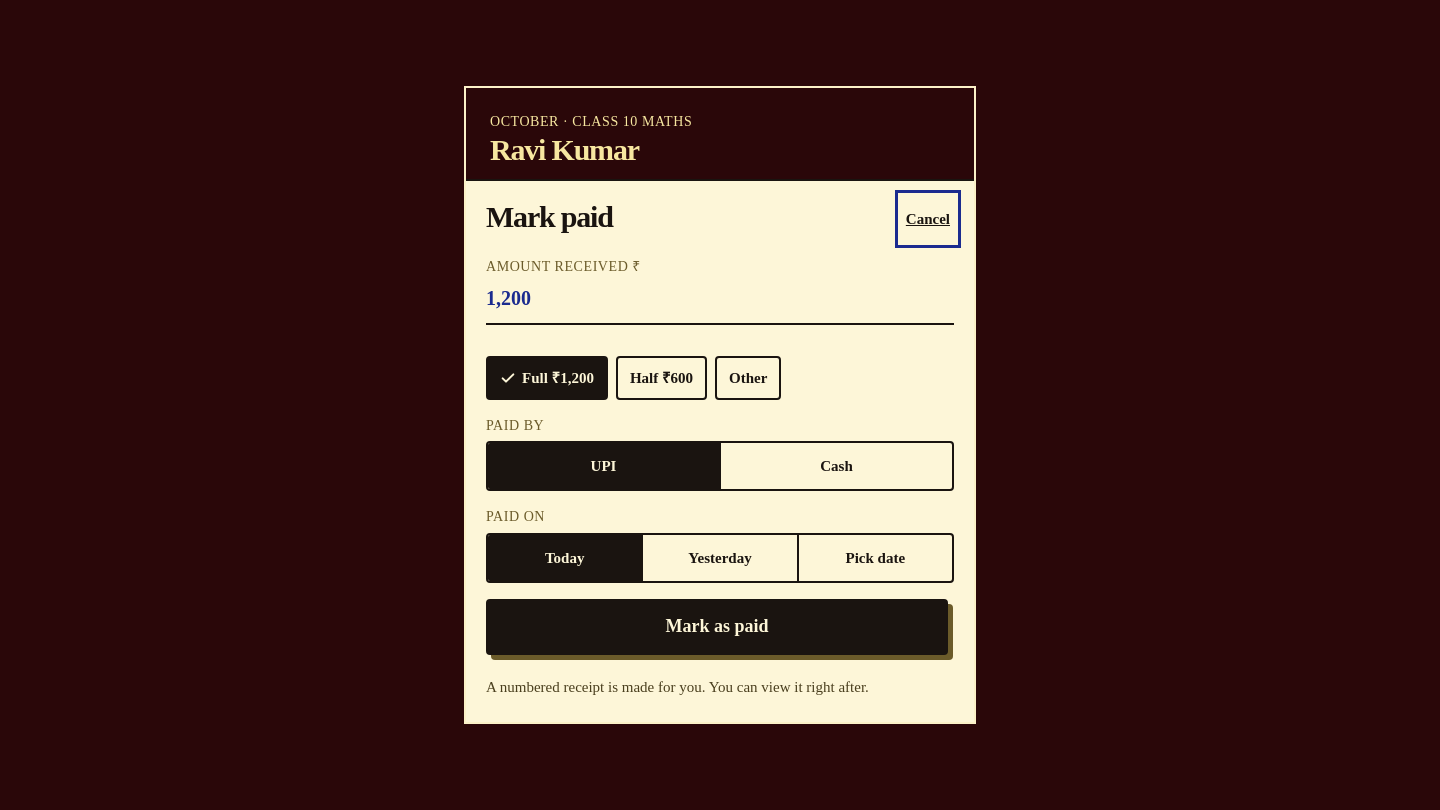
Test: the amount (13) › refuses abc with a message beside the field and sends nothing
Replace the text in the text box labelled "Amount received ₹" with "abc" at [720, 299], box [486,277,954,321]
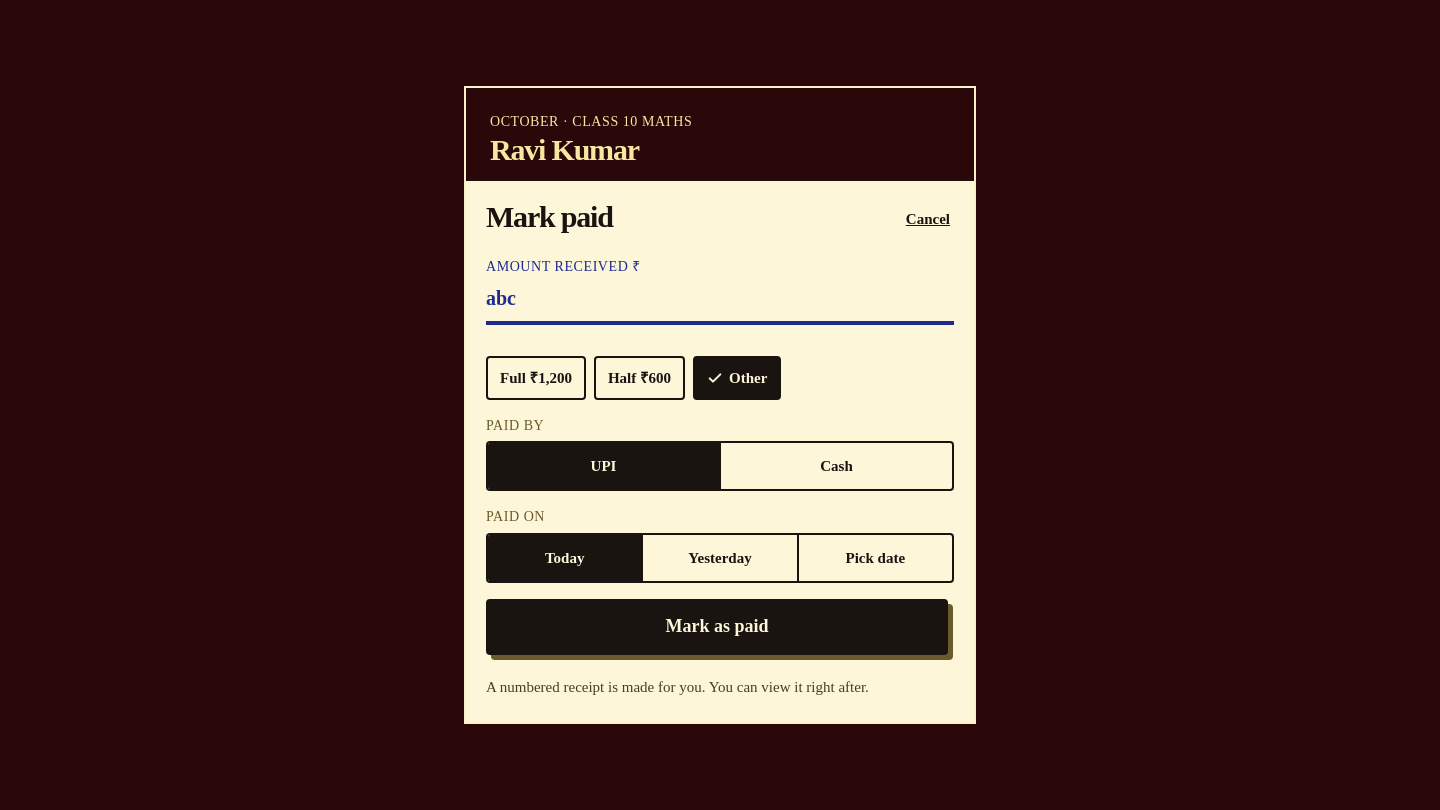
Click the button "Mark as paid" at [717, 627], box [486,599,948,655]
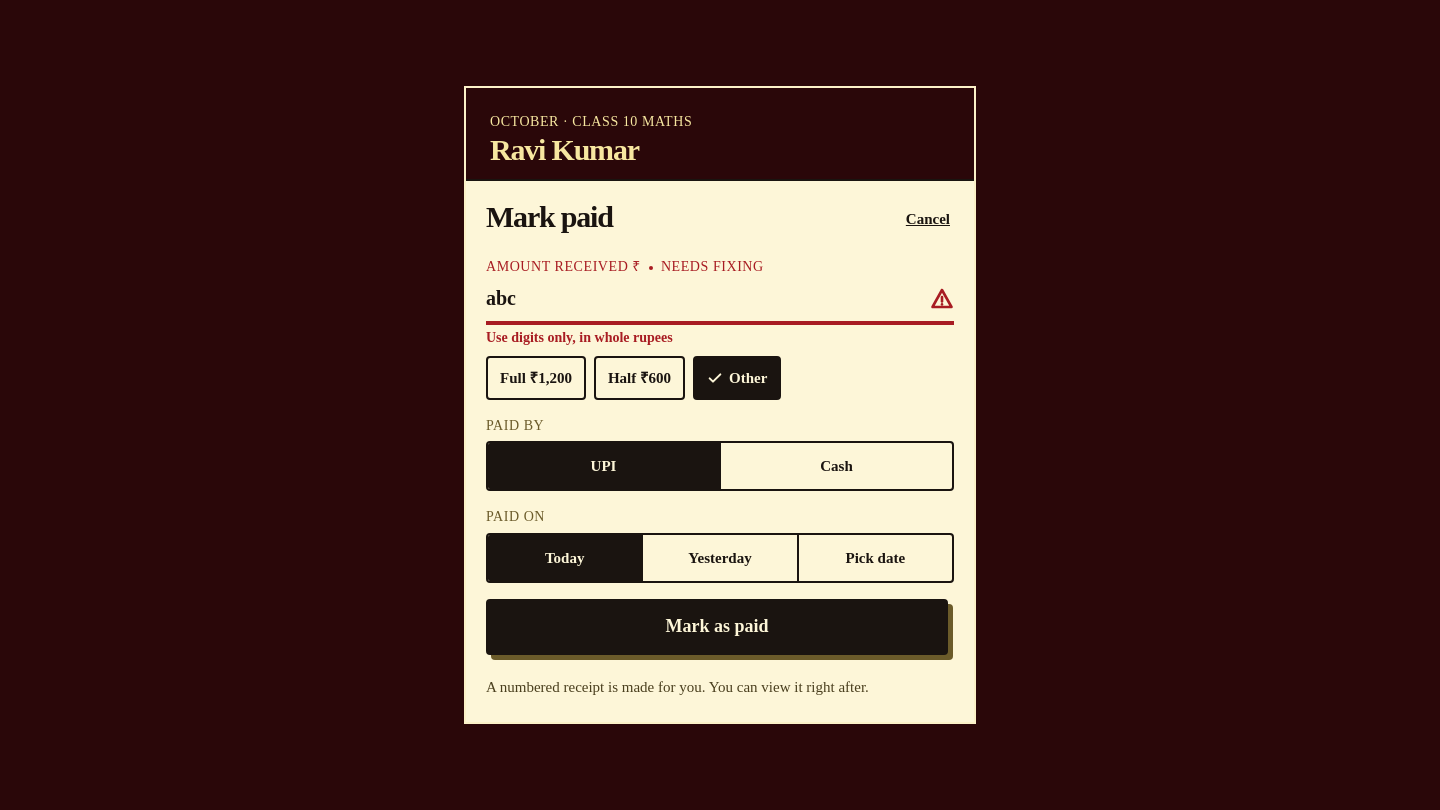
expect the text "Use digits only, in whole rupees" is shown: met, box [486,330,673,345]
